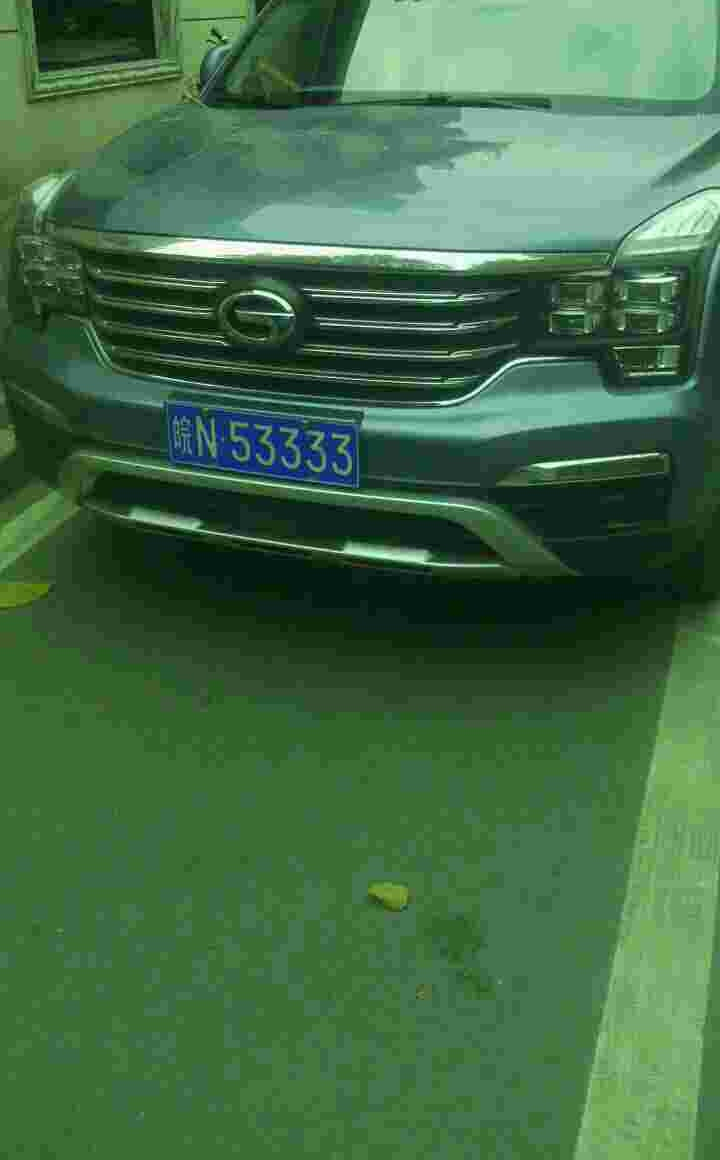license_plate: (161, 402, 368, 493)
